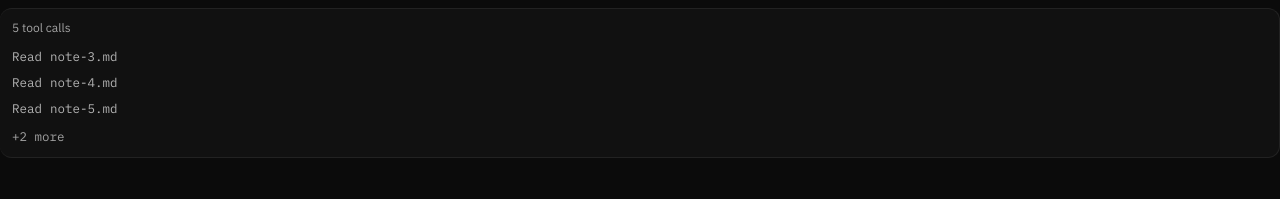
Test case: a long tool block shows the last three rows while running, then +N more
Click the button with class "tool-more": (38, 136) [12, 123, 1267, 149]
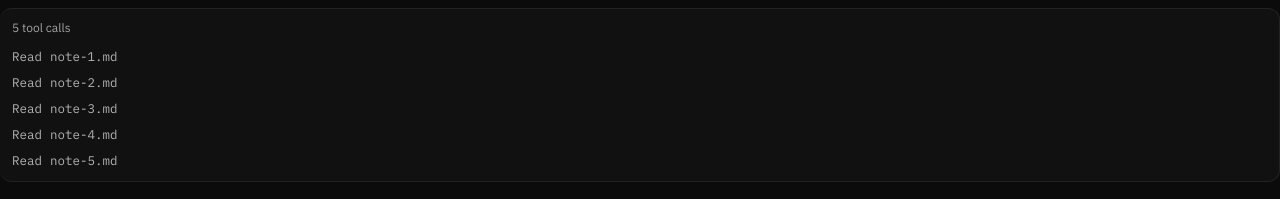
Now the number of buttons with class "tool-row" is 5, box [12, 43, 1267, 69]; [12, 69, 1267, 95]; [12, 95, 1267, 121]; [12, 121, 1267, 147]; [12, 152, 118, 168]
Now the button with class "tool-more" is gone
